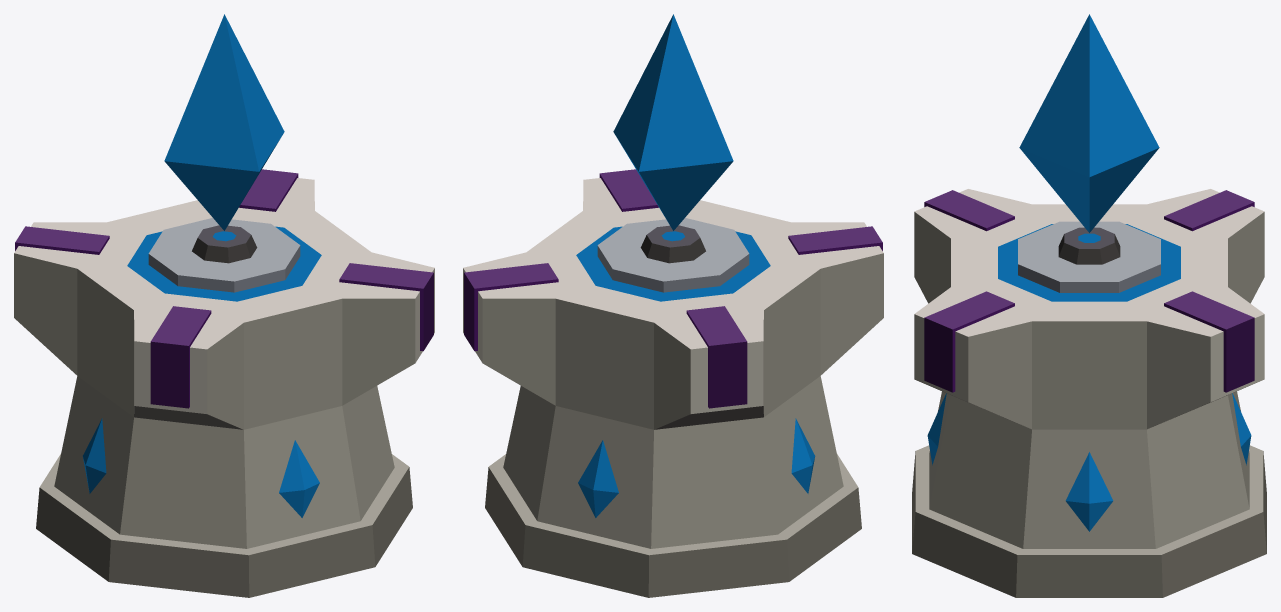
Rendered from MageTower_Lv1.obj.
3 renders of one model, left to right at view 1: azimuth 30°, elevation 25°; view 2: azimuth 150°, elevation 25°; view 3: azimuth 270°, elevation 25°, orthographic.
Visible parts, largest first — view 1: MageTower_Lv1; view 2: MageTower_Lv1; view 3: MageTower_Lv1.
Boxes of the visible parts, x1,y1,x2,y2 form: MageTower_Lv1: [14, 14, 434, 597]; MageTower_Lv1: [463, 14, 883, 597]; MageTower_Lv1: [912, 14, 1266, 597].
Size of the model in its own units: 6.18 by 9.78 by 6.18.
Materials: 1 (1 with a texture image).
